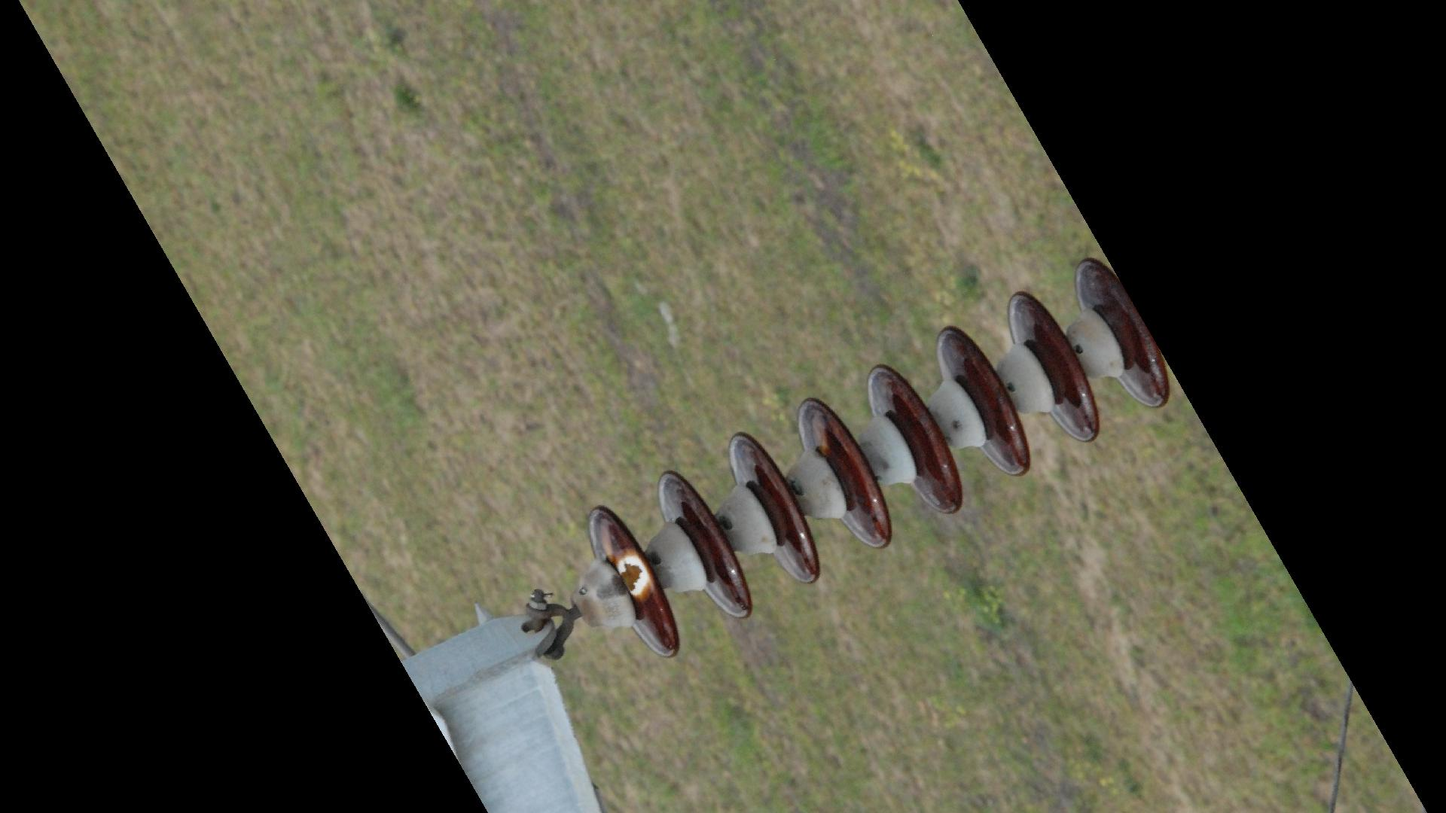insulator: (582, 252, 1176, 663)
insulator_flashover: (610, 547, 657, 601)
